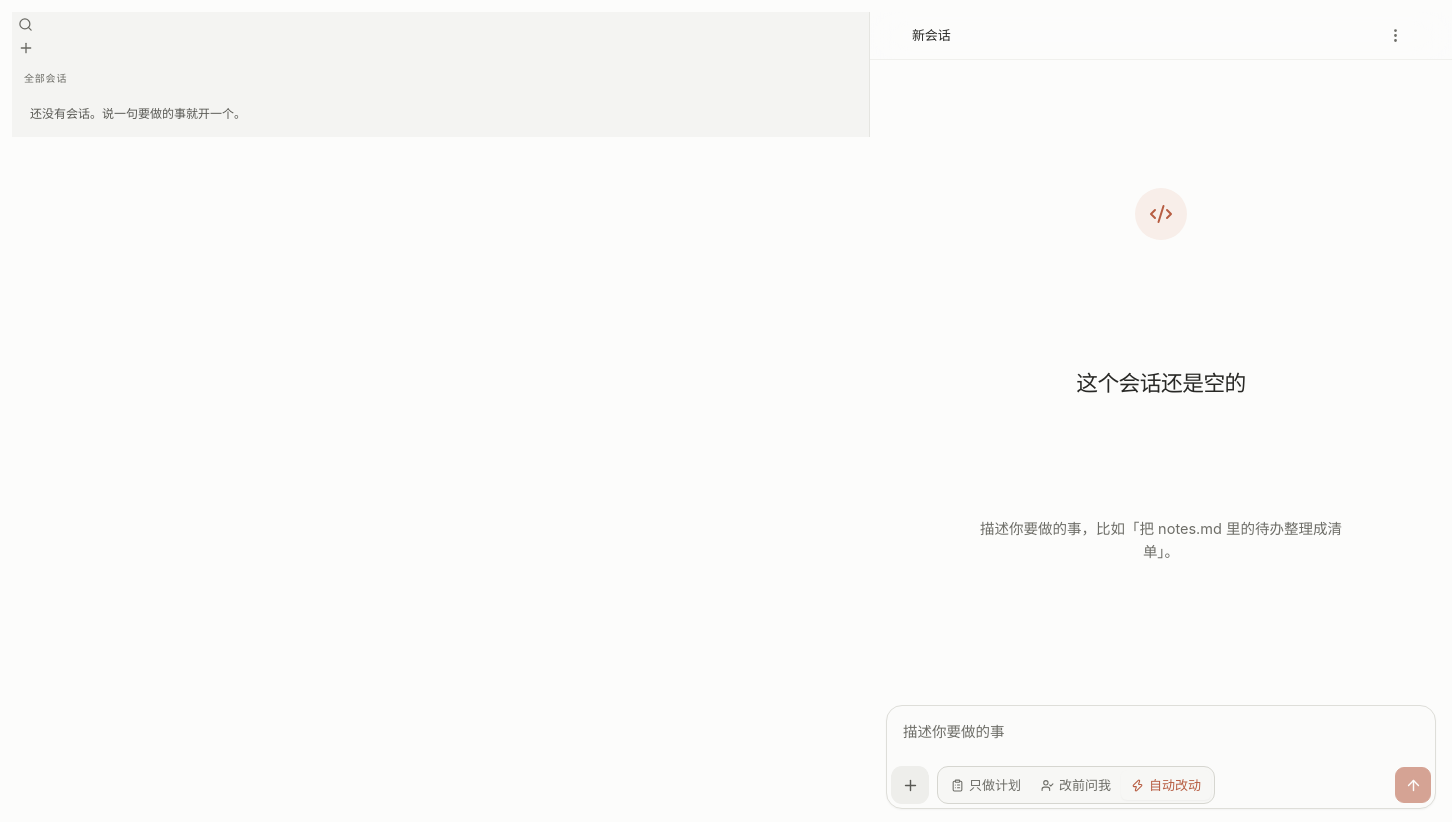
Test case: CodePage › names the account when the provider refused it
In the text box labelled "要做的事": (1161, 736) [891,710,1431,762], type "write notes.md"
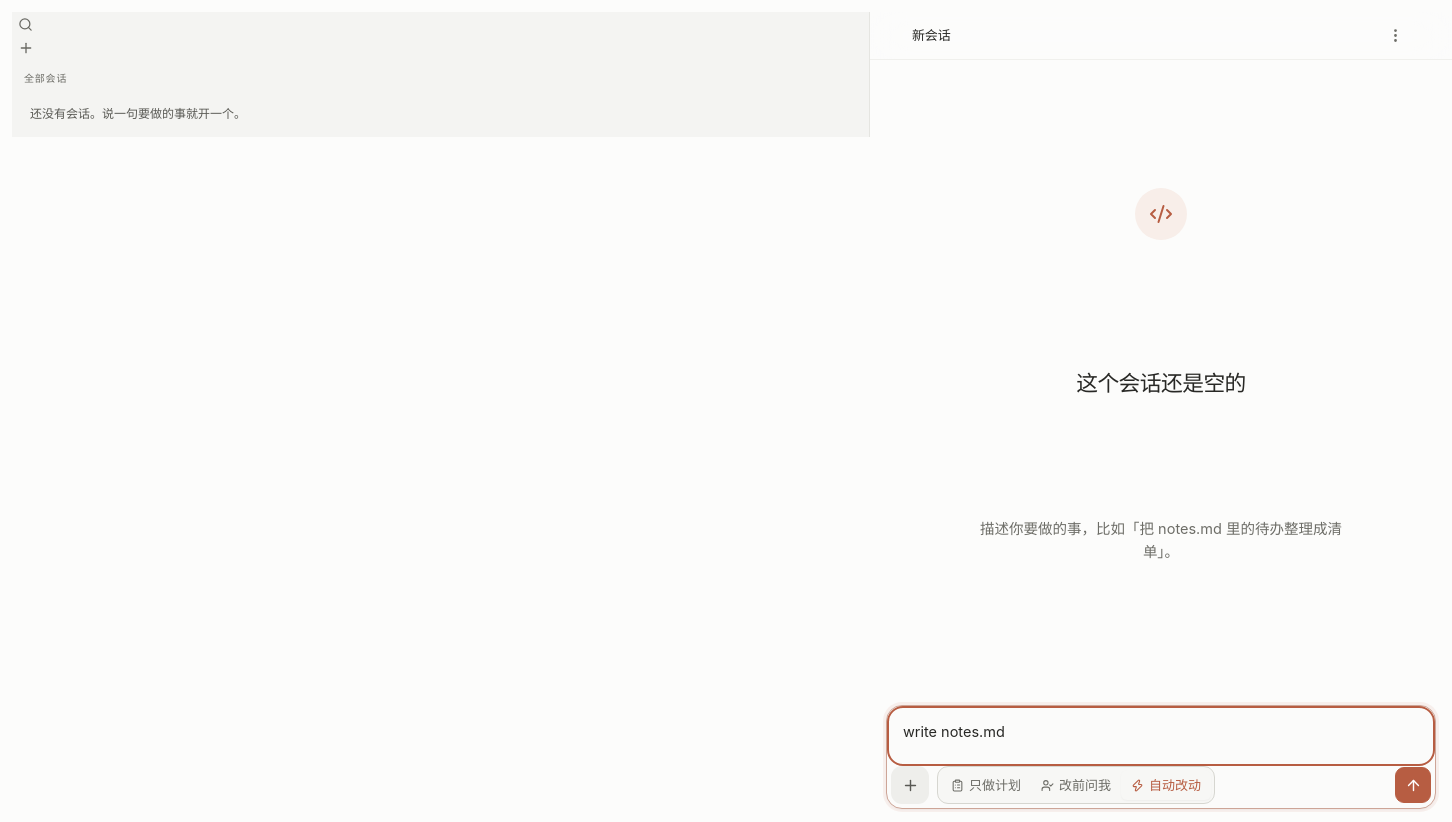
Click the button named "发送": (1413, 785) [1395,767,1431,803]
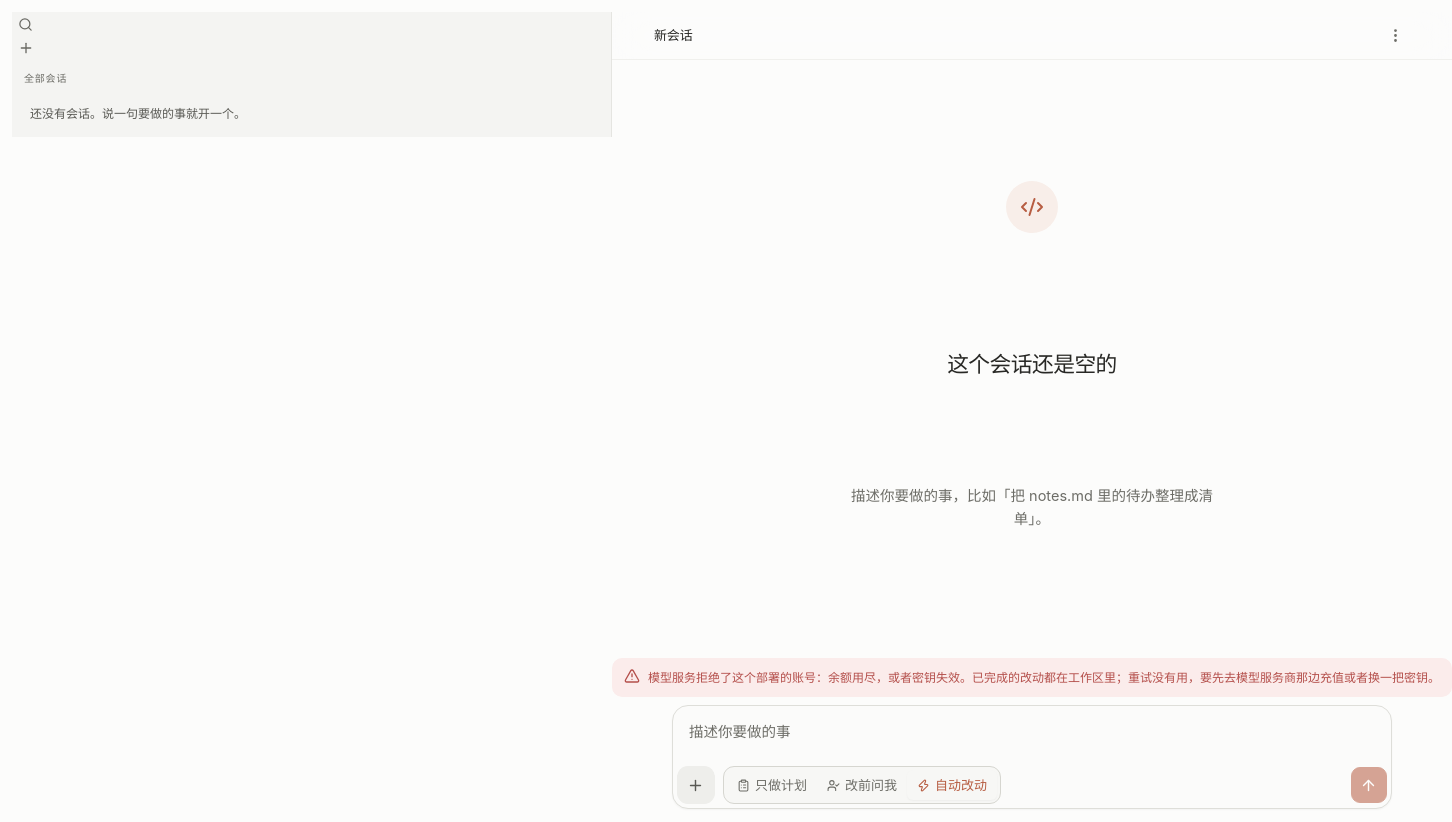
Expected: the text "余额用尽" is shown, [648,670,1440,685]
